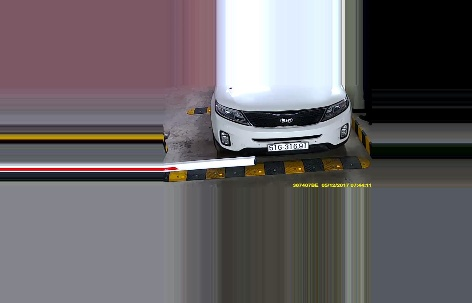plate: (263, 139, 310, 152)
